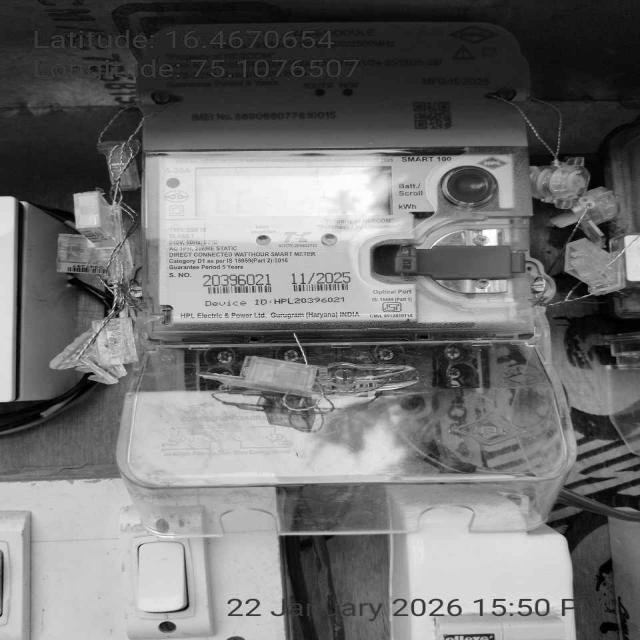meter: (133, 28, 529, 330)
